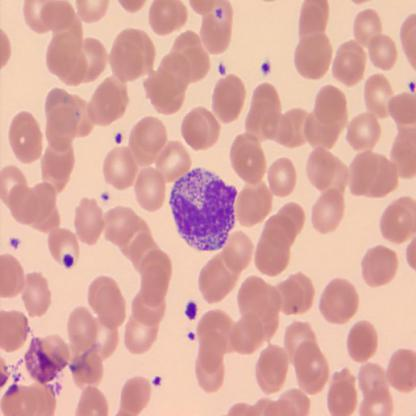Metamyelocyte: (168, 163, 239, 254)
